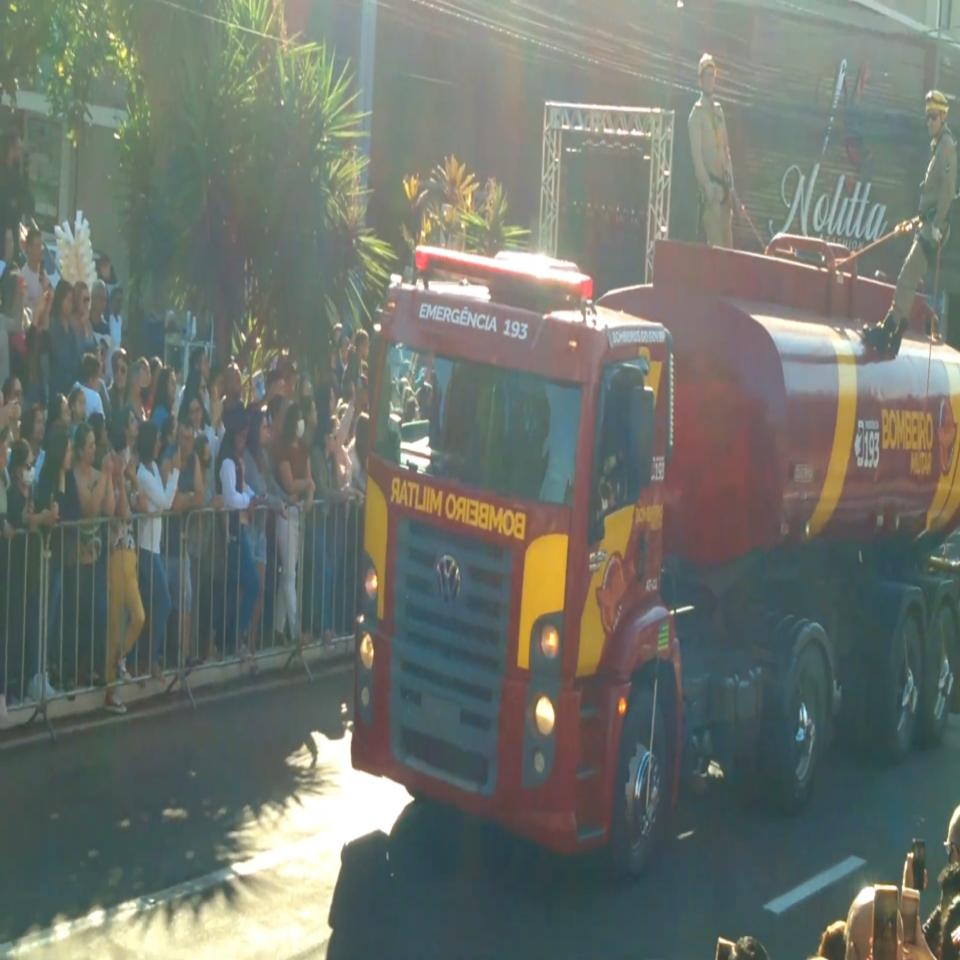viatura: (348, 235, 960, 882)
